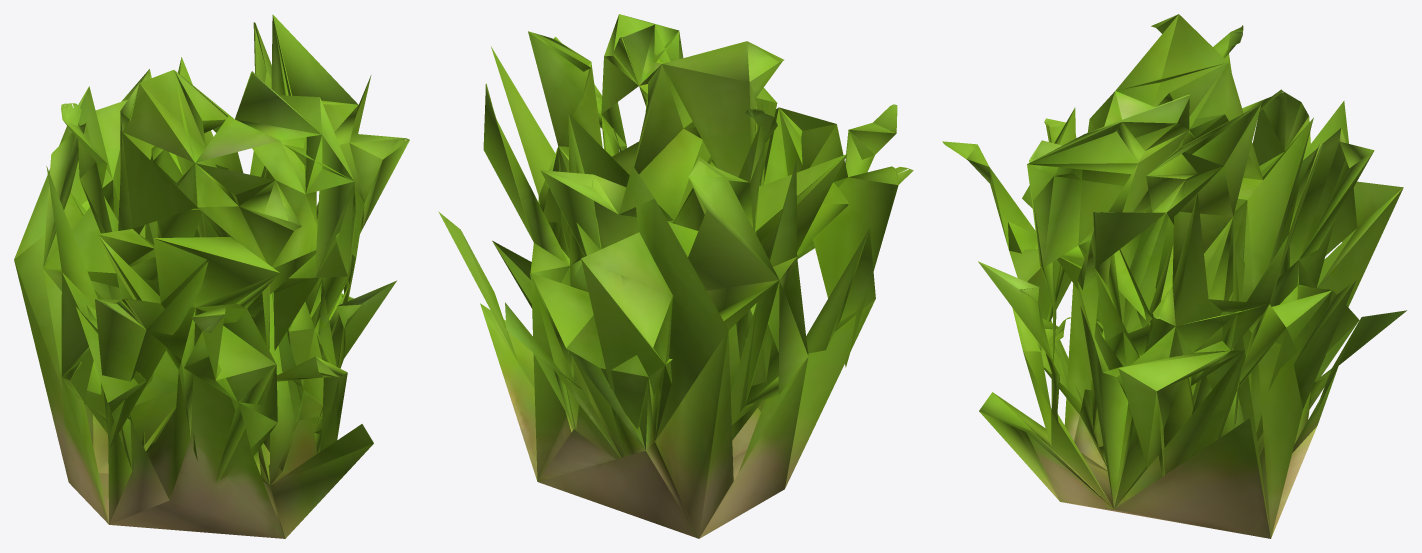
The model's file is seaweedKelp.glb.
The picture shows the model from 3 angles, left to right: view 1: azimuth 30°, elevation 25°; view 2: azimuth 150°, elevation 25°; view 3: azimuth 270°, elevation 25°; orthographic projection. The views are drawn at different scales.
Parts seen in each view (by area): view 1: model; view 2: model; view 3: model.
Part boxes in pixels (bbox=[...]): model: bbox=[14, 14, 409, 538]; model: bbox=[438, 14, 913, 538]; model: bbox=[942, 14, 1406, 538].
Bounding box in the file's own units: 1.36 × 1.69 × 1.59.
Materials: 1 (1 with a texture image).
